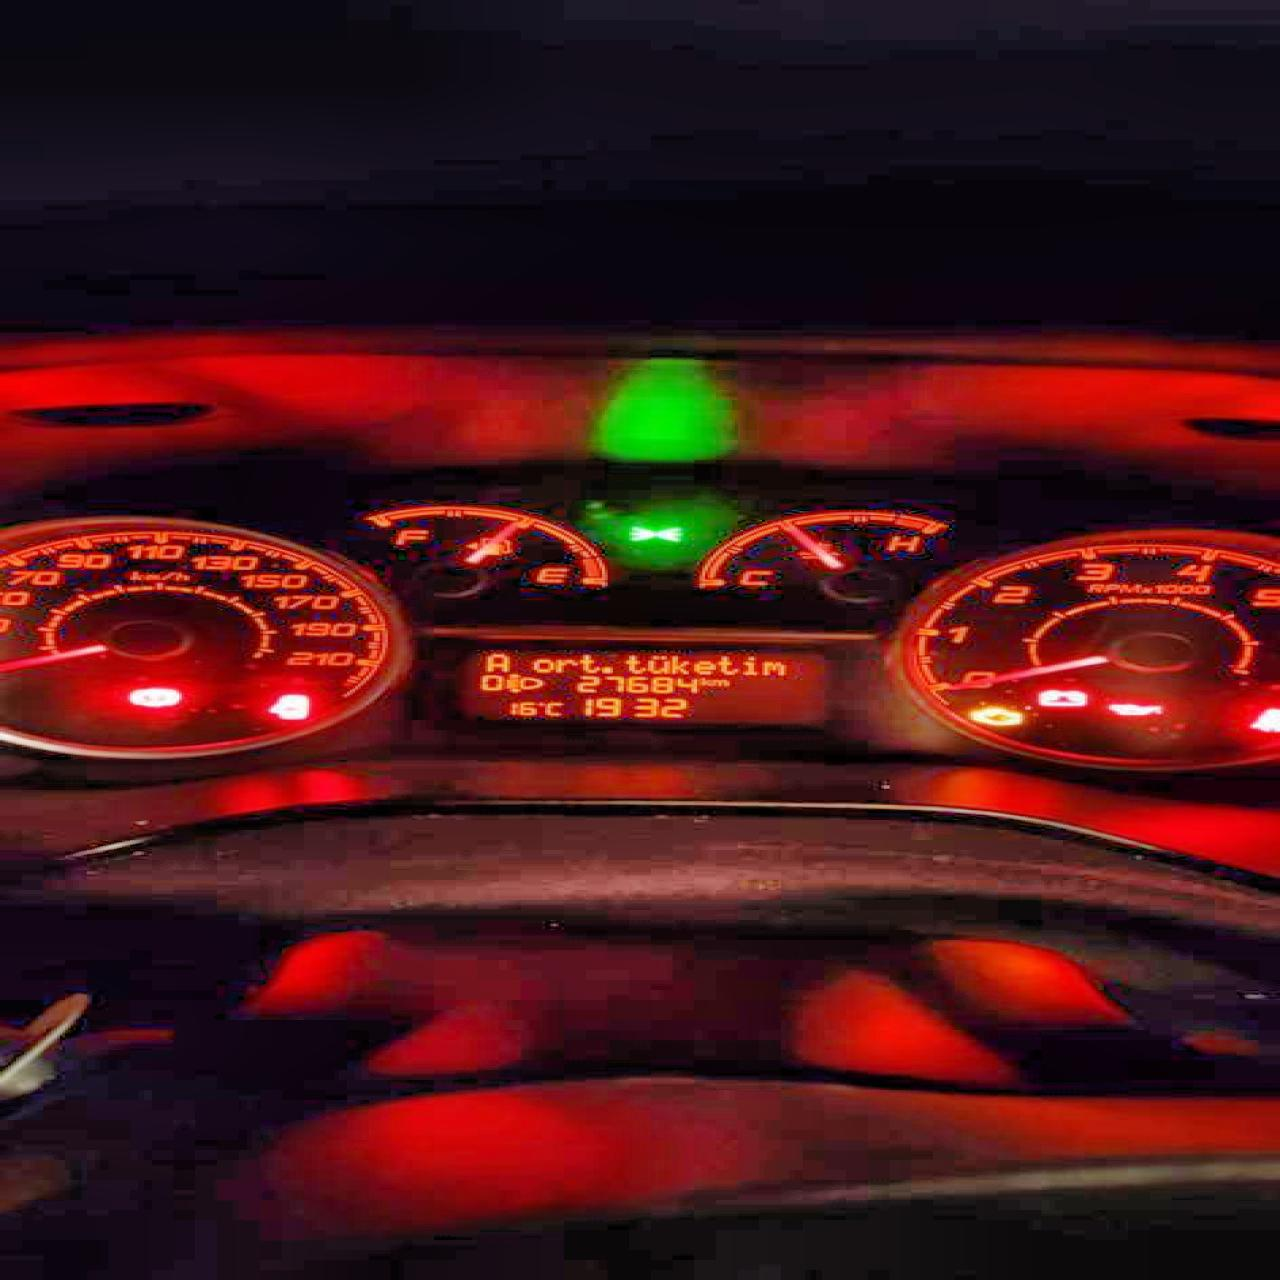-: (599, 666, 613, 673)
0: (477, 674, 502, 690)
1: (583, 696, 591, 716), (508, 700, 515, 715)
2: (659, 696, 683, 716), (576, 675, 597, 693)
3: (629, 696, 656, 716)
4: (673, 676, 696, 693)
6: (624, 675, 645, 693), (518, 701, 535, 715)
7: (602, 675, 624, 693)
8: (648, 675, 673, 693)
9: (591, 696, 618, 716)
X: (713, 654, 737, 674), (760, 658, 784, 676), (483, 653, 508, 672), (667, 654, 689, 674), (576, 653, 597, 673), (646, 654, 667, 674), (621, 654, 642, 673), (689, 659, 713, 674), (741, 654, 757, 675), (553, 658, 574, 672), (543, 701, 564, 715), (532, 658, 553, 672), (710, 678, 729, 687), (696, 676, 710, 686)
odometer: (434, 640, 849, 726)
